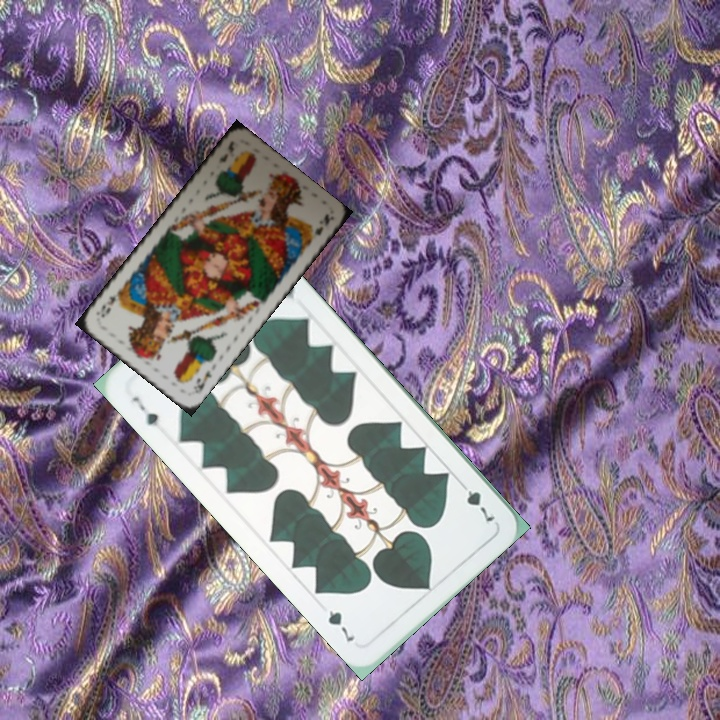EK: (189, 365, 214, 396), (214, 136, 237, 165)
G7: (455, 476, 498, 525), (127, 392, 162, 429)
